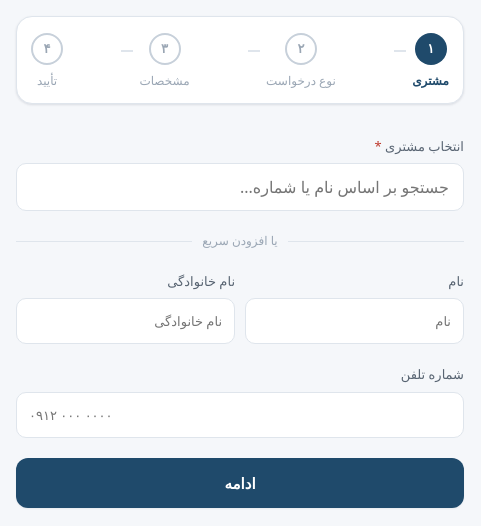
Test: RequestWizardScreen › advances to step 2 when quick-add has name + last name + phone
Type "علی" into the field with placeholder "نام" at (354, 322), box [245, 298, 464, 344]
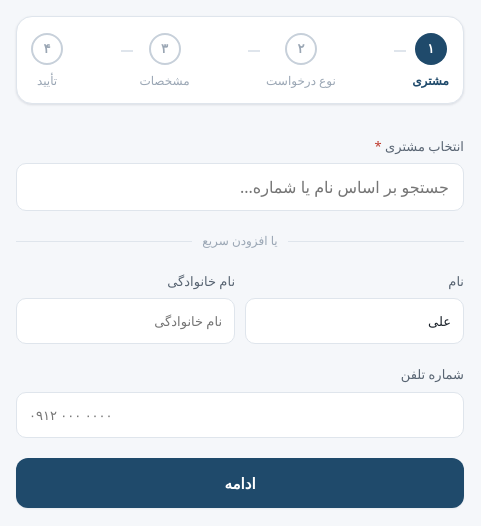
Type "رضایی" into the field with placeholder "نام خانوادگی" at (126, 322), box [16, 298, 235, 344]
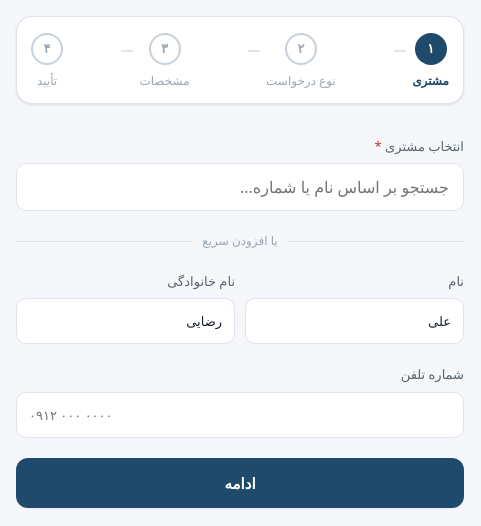
Type "09121112233" into the field with placeholder "۰۹۱۲ ۰۰۰ ۰۰۰۰" at (240, 415), box [16, 392, 464, 438]
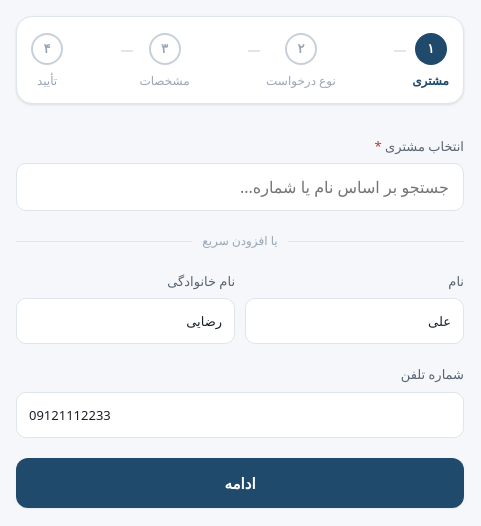
Click the button "ادامه" at (240, 483), box [16, 458, 464, 508]
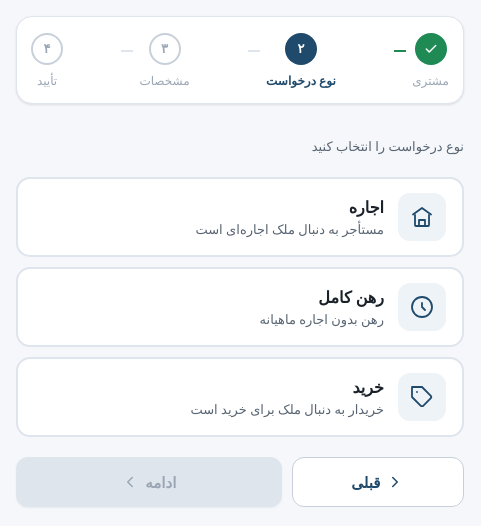
Expected: the text "نوع درخواست را انتخاب کنید" is shown, [312, 137, 464, 155]
